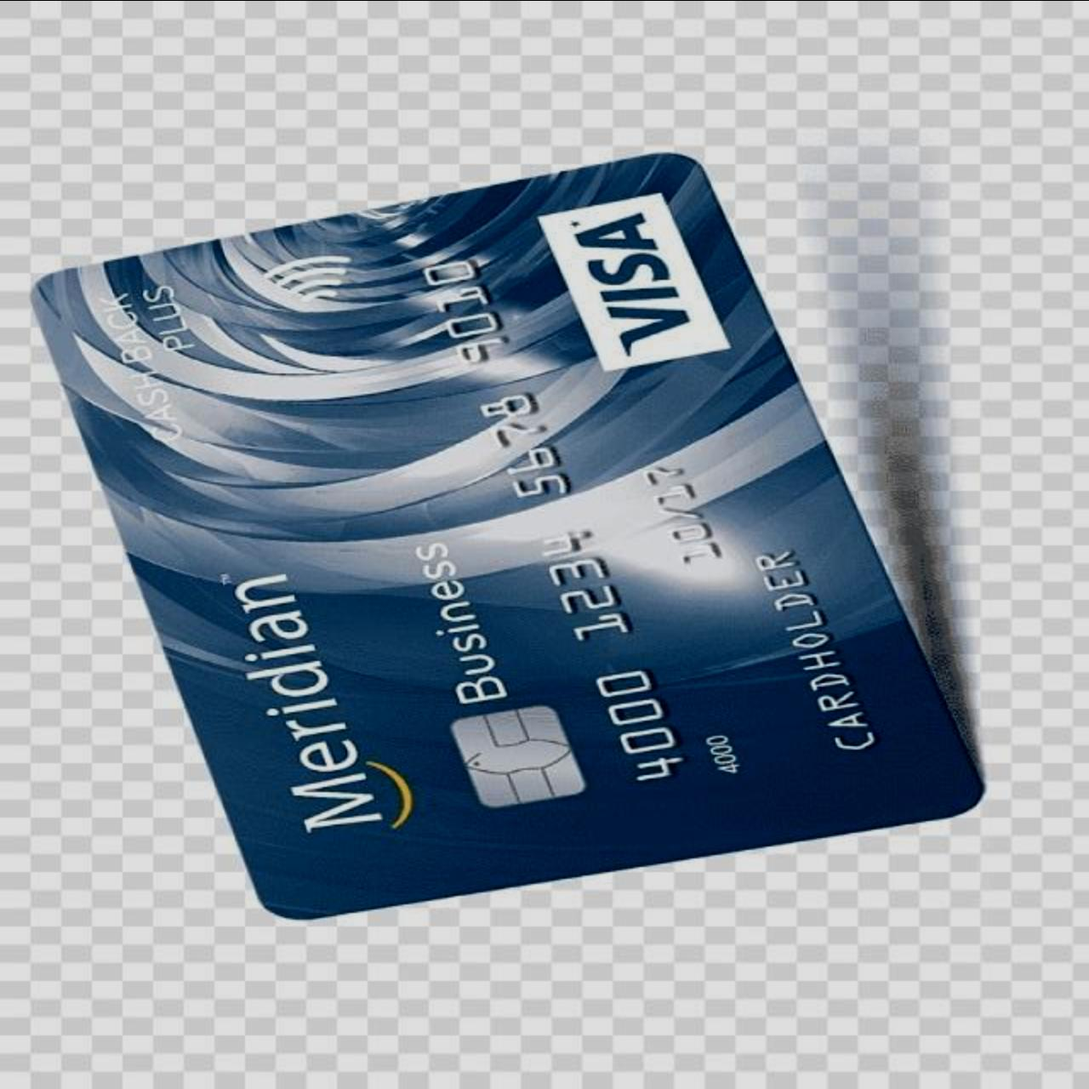credit_card: (27, 143, 994, 912)
